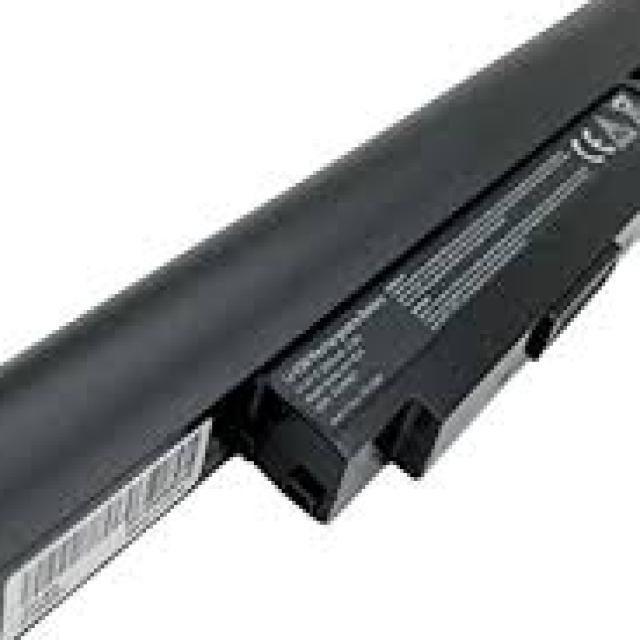organic: (4, 4, 640, 480)
